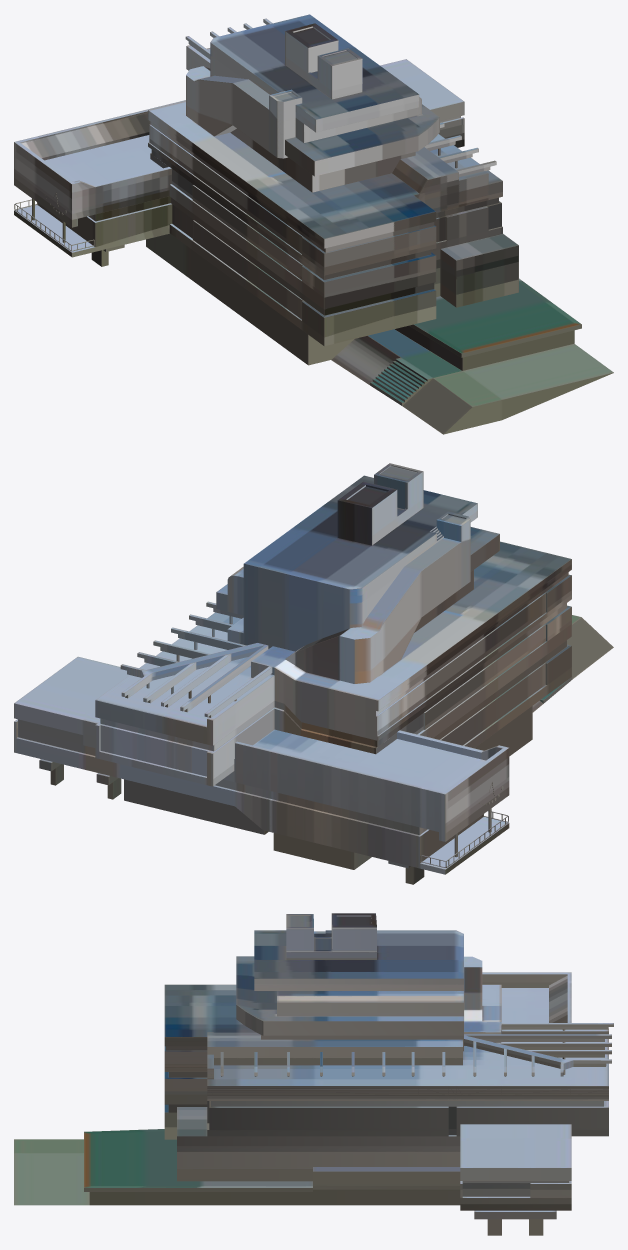
The model's file is terneuzen_textured.glb.
The picture shows the model from 3 angles, top to bottom: view 1: azimuth 30°, elevation 25°; view 2: azimuth 150°, elevation 25°; view 3: azimuth 270°, elevation 25°; orthographic projection. The views are drawn at different scales.
Parts seen in each view (by area): view 1: TarneuzenStadHuis; view 2: TarneuzenStadHuis; view 3: TarneuzenStadHuis.
Part boxes in pixels (x1,y1,x2,y2): TarneuzenStadHuis: (14,14,613,434); TarneuzenStadHuis: (14,463,613,884); TarneuzenStadHuis: (14,913,613,1235).
Bounding box in the file's own units: 32.59 × 20.42 × 45.06.
Materials: 1 (1 with a texture image).
